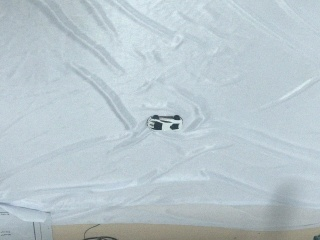toy_car: (146, 113, 185, 133)
